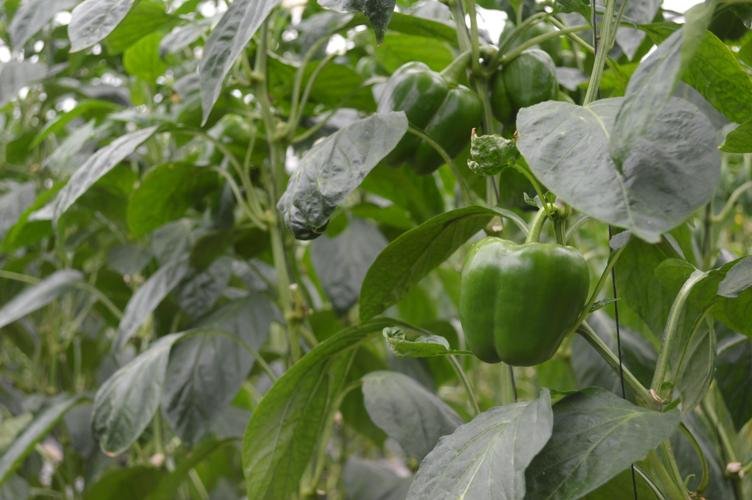BellPepper: (457, 234, 582, 360), (379, 61, 479, 168), (486, 50, 554, 114)
